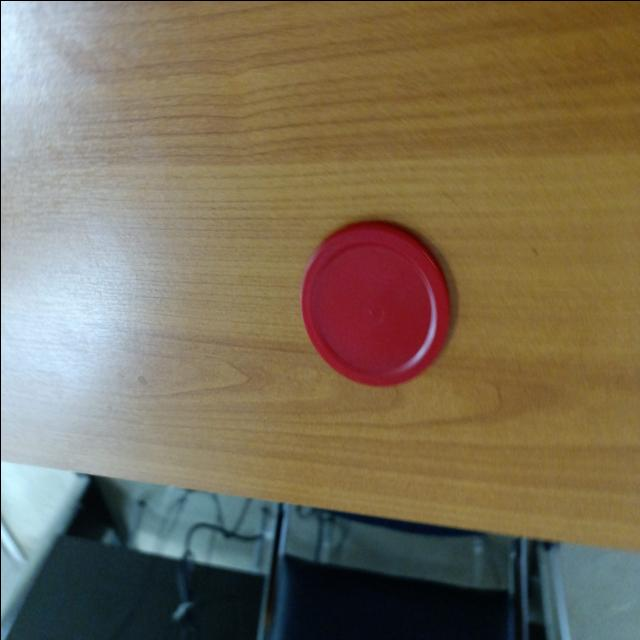chip: (299, 220, 452, 391)
